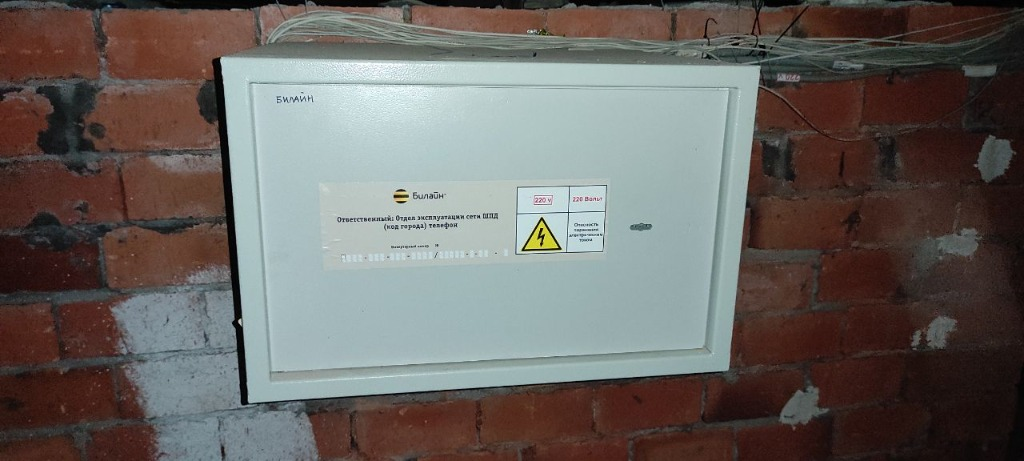shta-7m: (212, 53, 765, 407)
